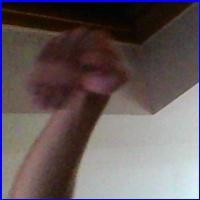del: (26, 30, 128, 124)
